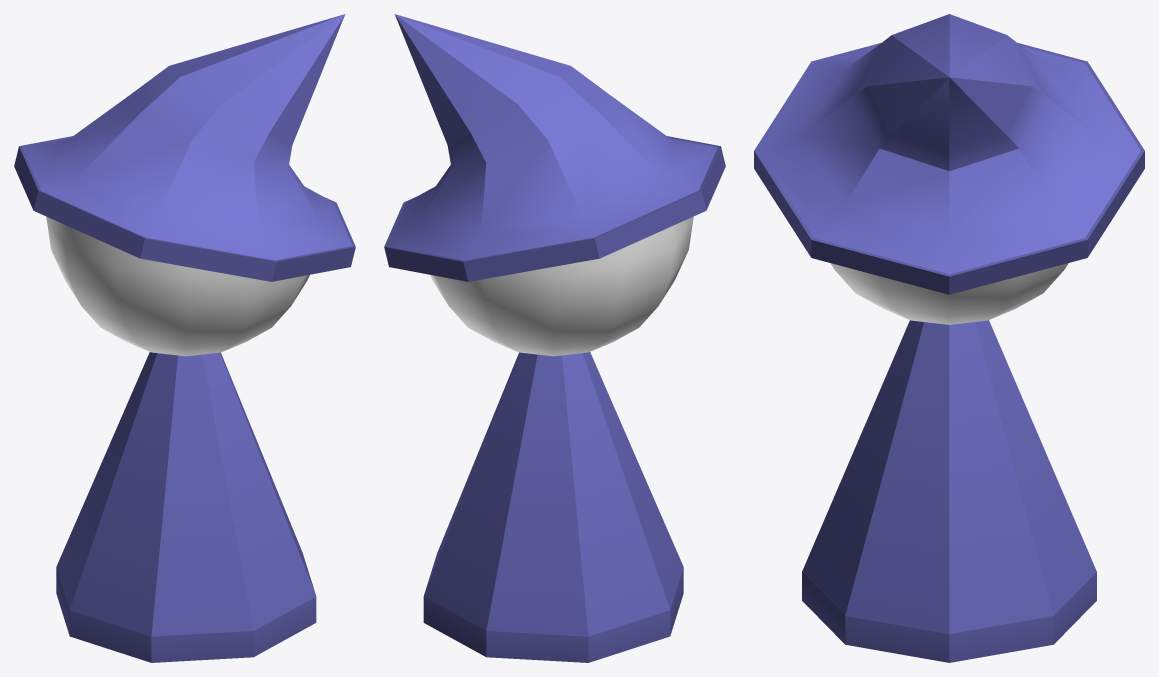
File: evocationist.fbx
3 renders of one model, left to right at view 1: azimuth 30°, elevation 25°; view 2: azimuth 150°, elevation 25°; view 3: azimuth 270°, elevation 25°, orthographic. The views are drawn at different scales.
Visible parts, largest first — view 1: Cylinder, Cylinder.002, Sphere, Cylinder.001; view 2: Cylinder, Cylinder.002, Sphere, Cylinder.001; view 3: Cylinder, Cylinder.002, Cylinder.001, Sphere.
Boxes of the visible parts, <box> form: Cylinder: <box>56,352,316,662</box>; Cylinder.002: <box>22,14,352,260</box>; Sphere: <box>46,216,309,356</box>; Cylinder.001: <box>14,136,355,281</box>; Cylinder: <box>423,352,683,662</box>; Cylinder.002: <box>387,14,717,260</box>; Sphere: <box>430,216,693,356</box>; Cylinder.001: <box>384,136,725,281</box>; Cylinder: <box>802,320,1096,662</box>; Cylinder.002: <box>758,14,1140,274</box>; Cylinder.001: <box>754,43,1144,294</box>; Sphere: <box>830,263,1068,324</box>.
Size of the model in its own units: 41.17 by 70.04 by 40.77.
4 materials, 4 textured.
